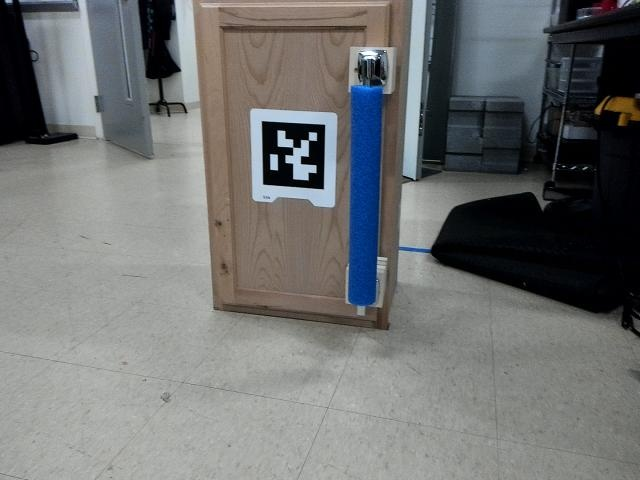noodle_handle: (337, 78, 393, 309)
